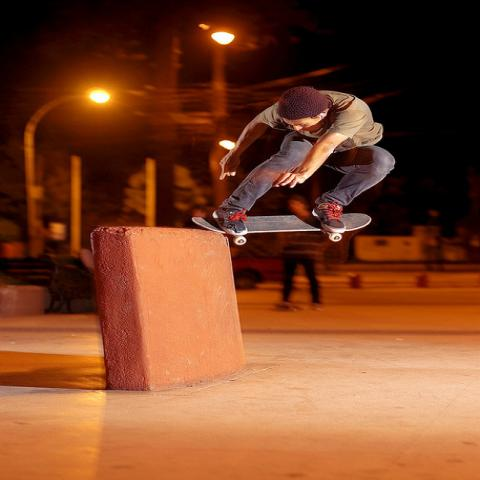car: (229, 240, 327, 289)
